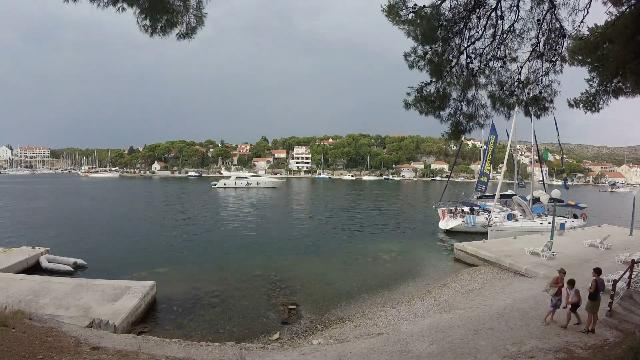ferry: (203, 162, 293, 194)
